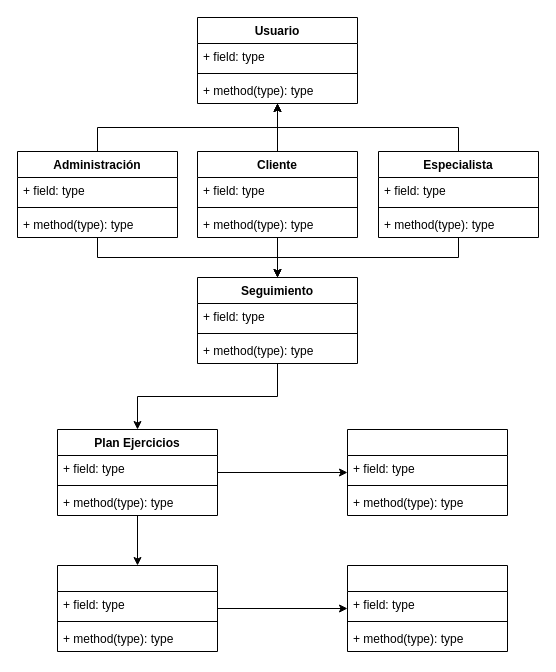
Image size: 556x672. Some labels were removed from this diagram. Here are the shapes that lost their labels. From the top down, the box of each, then its label:
(346, 428, 508, 516): Ejercicio
(56, 564, 218, 652): Plan Alimentación
(346, 564, 508, 652): Dieta
